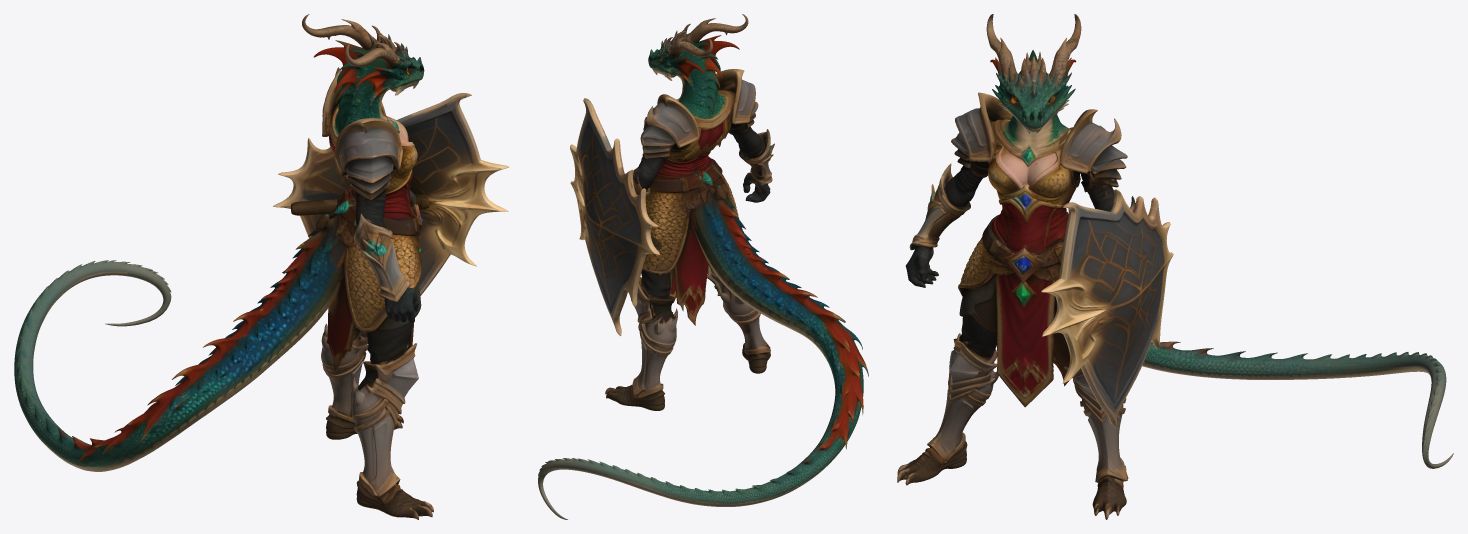
Rendered from dragonborn_paladin_full_female_01.glb.
The picture shows the model from 3 angles, left to right: view 1: azimuth 30°, elevation 25°; view 2: azimuth 150°, elevation 25°; view 3: azimuth 270°, elevation 25°; orthographic projection. The views are drawn at different scales.
Visible parts, largest first — view 1: material; view 2: material; view 3: material.
Part boxes in pixels (x1,y1,x2,y2): material: [14, 14, 509, 519]; material: [538, 14, 868, 519]; material: [897, 14, 1453, 519].
Bounding box in the file's own units: 0.7109 × 0.7935 × 0.8861.
1 material, 1 textured.
